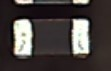COMP: (8, 15, 96, 61)
GAP: (15, 1, 89, 36)
